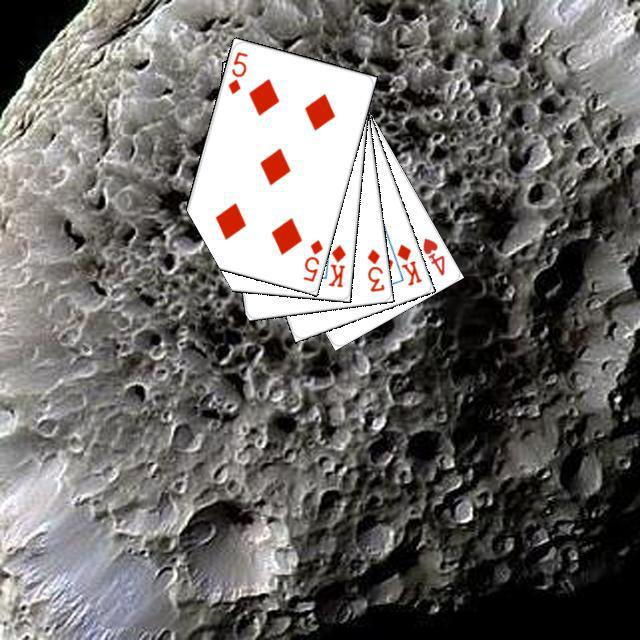3d: (362, 244, 386, 294)
4h: (418, 233, 447, 277)
5d: (298, 235, 325, 283), (223, 47, 249, 96)
Kd: (392, 239, 424, 288), (323, 240, 347, 289)
